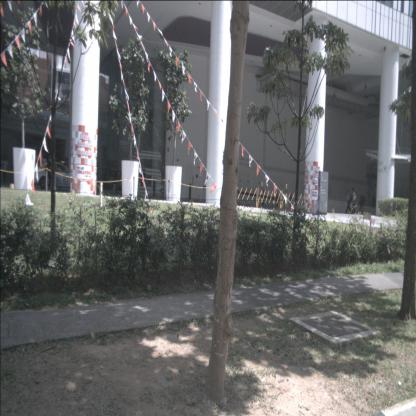human-pedestrian-adult: (45, 154, 54, 191), (344, 190, 352, 214), (350, 188, 356, 215)
vehicle-car: (31, 160, 87, 194)
